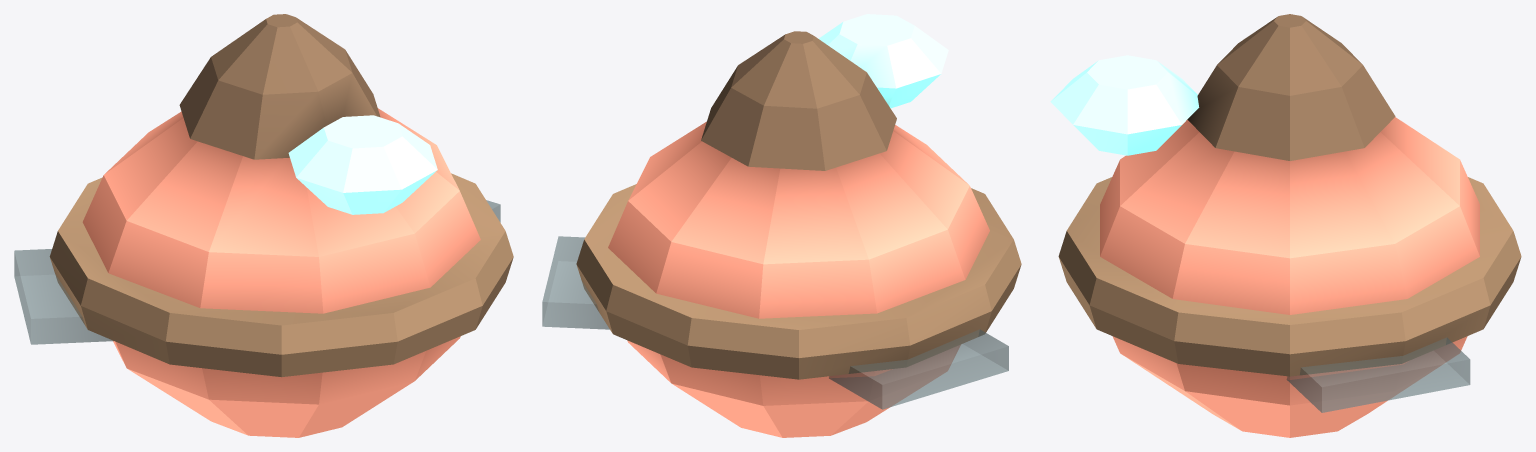
The model's file is spark.glb.
3 renders of one model, left to right at view 1: azimuth 30°, elevation 25°; view 2: azimuth 150°, elevation 25°; view 3: azimuth 270°, elevation 25°, orthographic. The views are drawn at different scales.
Visible parts, largest first — view 1: spark; view 2: spark; view 3: spark.
Part boxes in pixels (x1,y1,x2,y2): spark: [14, 14, 513, 437]; spark: [542, 14, 1021, 437]; spark: [1050, 14, 1521, 437].
Bounding box in the file's own units: 0.6659 × 0.52 × 0.58.
